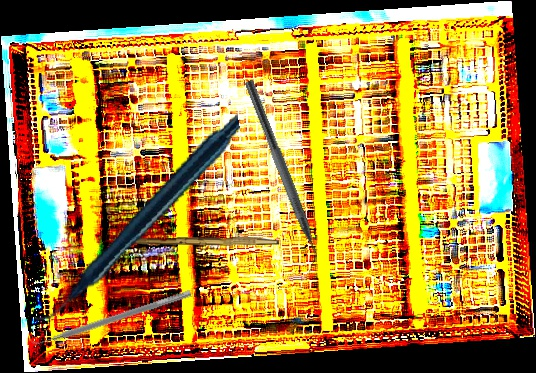Chopper: (231, 79, 329, 276)
Handpiece: (6, 112, 268, 324)
Scalpel Handle: (129, 234, 280, 248)
Spatula Surgical: (29, 283, 192, 351)
